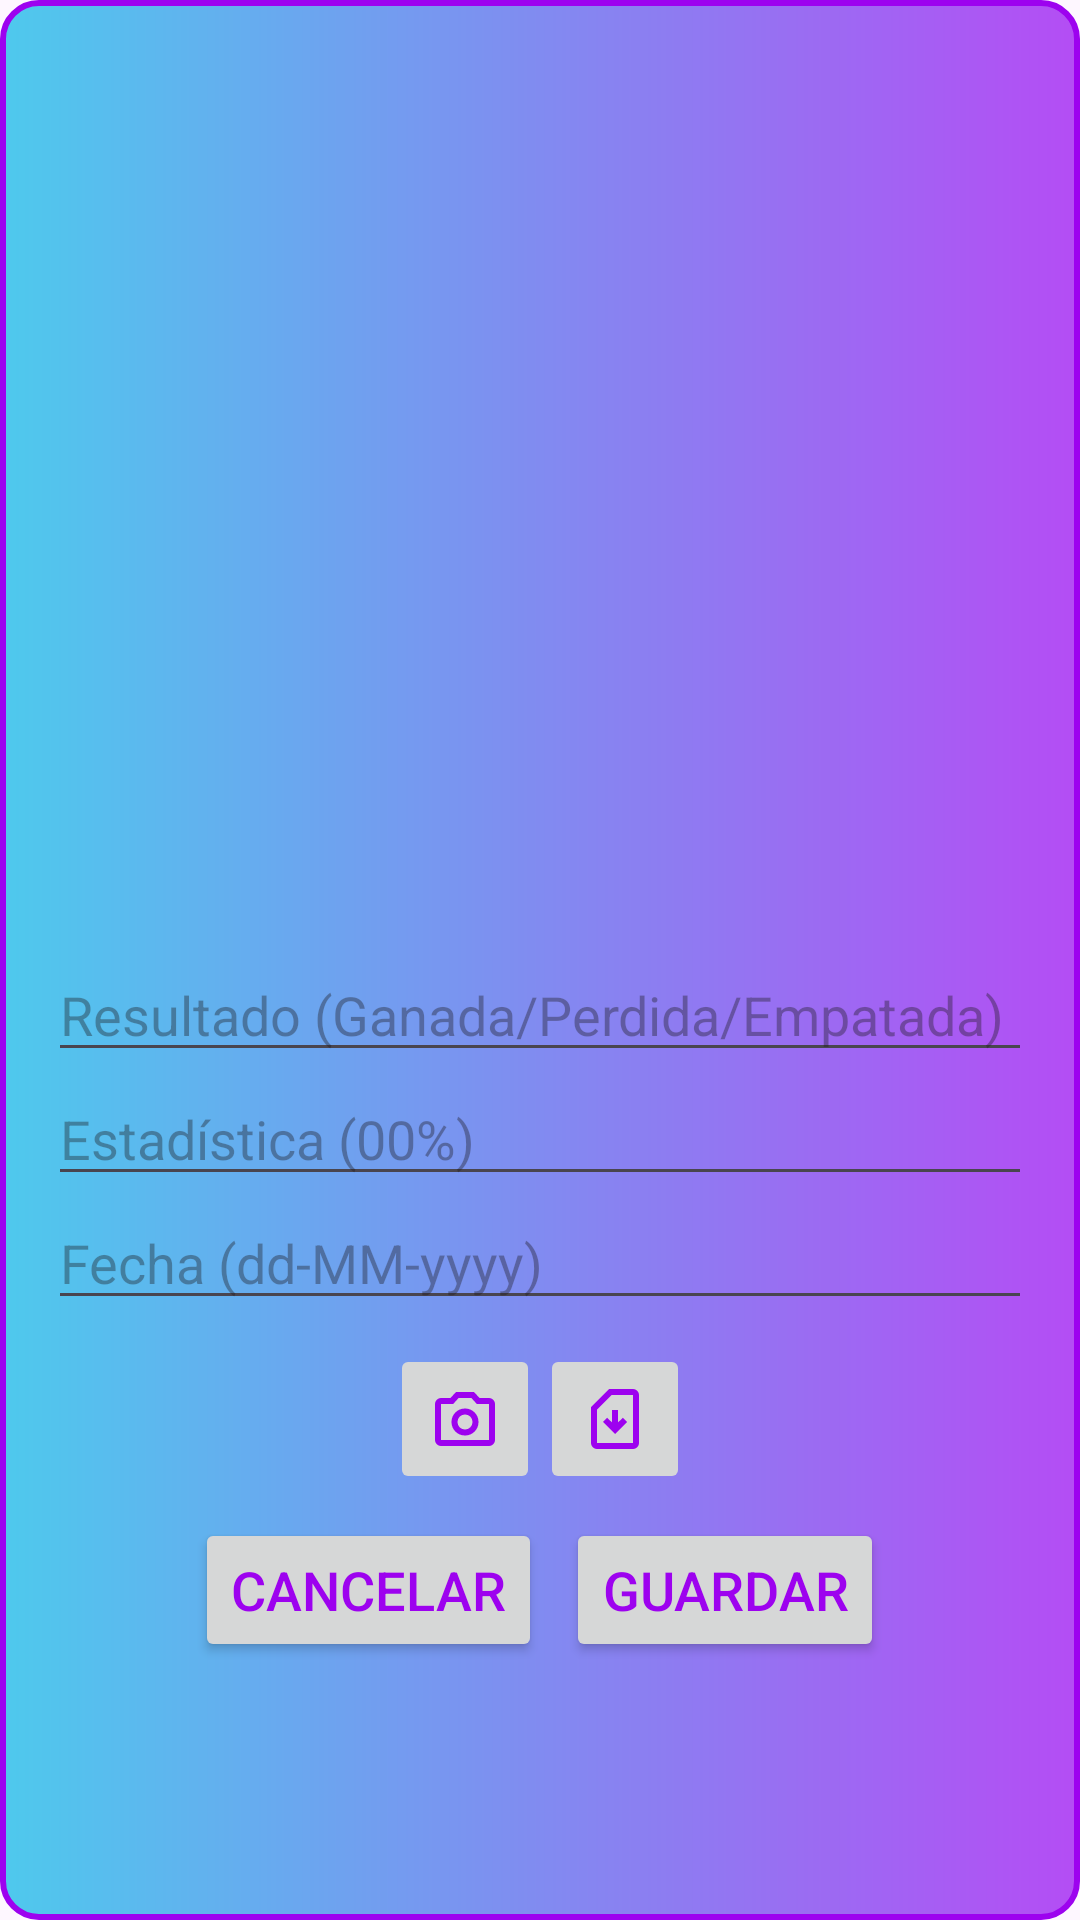

Icons on this 1080 × 1920 Android screen, each with its box as [left=x1, top=y1, right=x2, bottom=y2]:
camera: [left=402, top=1362, right=528, bottom=1476]
